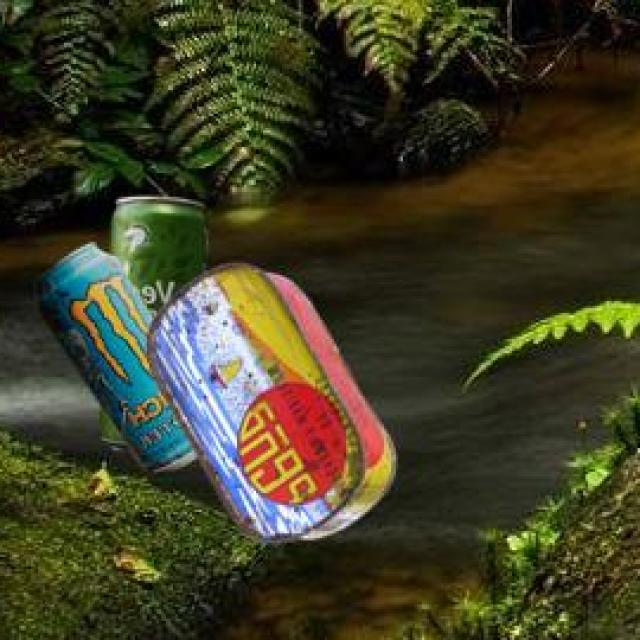logam: (151, 260, 399, 539), (39, 241, 200, 471), (103, 193, 212, 449)
